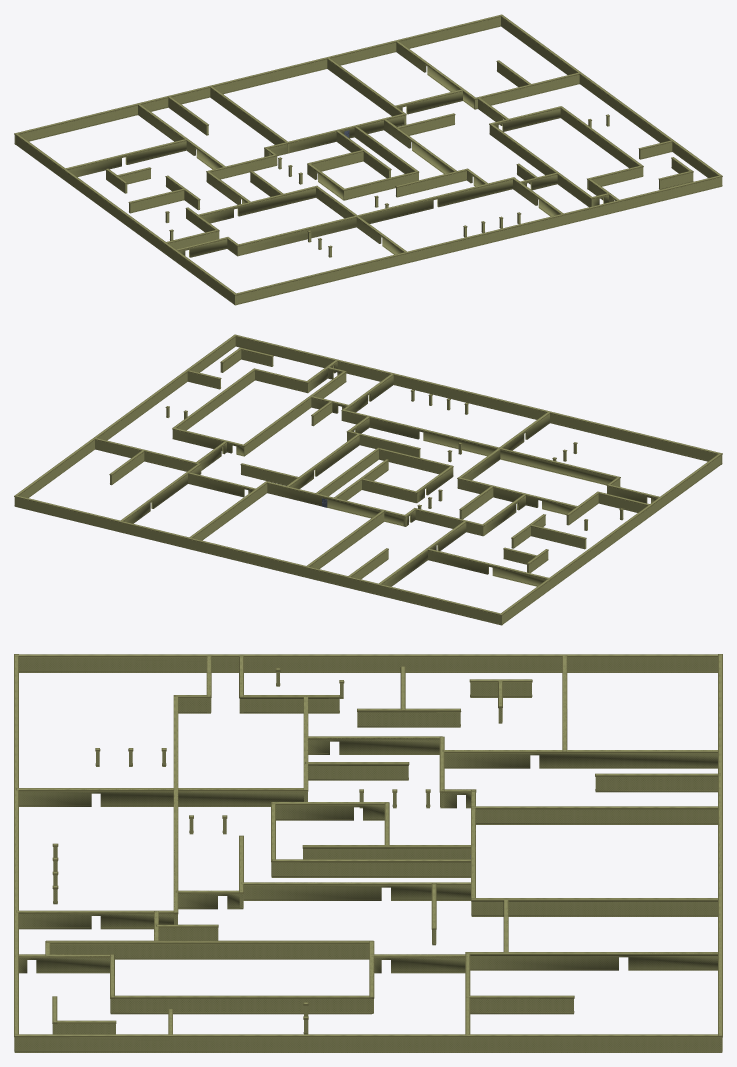
Rendered from map.fbx.
3 views of the same model, one above another, from view 1: azimuth 30°, elevation 25°; view 2: azimuth 150°, elevation 25°; view 3: azimuth 270°, elevation 25° (orthographic). The views are drawn at different scales.
Parts seen in each view (by area): view 1: wall.011, wall.001, wall door.001, wall.009, wall.010, wall door.016, wall door.015, wall door, wall.015, wall.016, wall door.003, wall door.019 (+22 smaller); view 2: wall.001, wall.011, wall door.001, wall.009, wall.010, wall door, wall door.016, wall.015, wall door.015, wall.016, wall door.003, wall door.019 (+21 smaller); view 3: wall.010, wall.009, wall.015, wall.018, wall door.019, wall door.003, wall.003, wall.002, wall door.010, wall door.011, wall.013, wall door.002 (+17 smaller).
Part boxes in pixels (<box>): wall.011: <box>233,175,720,305</box>; wall.001: <box>14,14,502,144</box>; wall door.001: <box>237,177,515,256</box>; wall.009: <box>16,134,237,305</box>; wall.010: <box>501,15,722,186</box>; wall door.016: <box>64,138,188,177</box>; wall door.015: <box>197,185,318,223</box>; wall door: <box>265,114,404,155</box>; wall.015: <box>489,124,593,207</box>; wall.016: <box>474,72,580,109</box>; wall door.003: <box>316,187,407,254</box>; wall door.019: <box>138,104,225,169</box>; wall.001: <box>14,495,503,625</box>; wall.011: <box>235,335,722,464</box>; wall door.001: <box>341,409,620,485</box>; wall.009: <box>501,453,722,624</box>; wall.010: <box>16,334,236,497</box>; wall door: <box>267,482,405,526</box>; wall door.016: <box>426,548,550,586</box>; wall.015: <box>244,371,346,456</box>; wall door.015: <box>457,477,577,514</box>; wall.016: <box>94,438,201,473</box>; wall door.003: <box>459,411,550,480</box>; wall door.019: <box>379,521,466,586</box>; wall.010: <box>14,1034,721,1052</box>; wall.009: <box>14,654,717,672</box>; wall.015: <box>46,940,373,959</box>; wall.018: <box>110,995,372,1014</box>; wall door.019: <box>442,750,717,768</box>; wall door.003: <box>16,788,303,806</box>; wall.003: <box>471,898,717,916</box>; wall.002: <box>471,806,717,824</box>; wall door.010: <box>467,952,717,970</box>; wall door.011: <box>241,882,470,900</box>; wall.013: <box>272,859,471,877</box>; wall door.002: <box>16,910,173,929</box>.
Bounding box in the file's own units: 48336 × 1000 × 37891.
